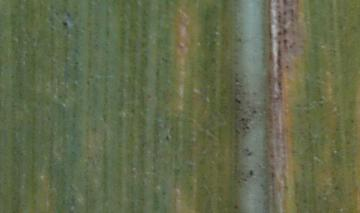tarspot: (59, 19, 70, 28), (289, 7, 296, 19), (233, 97, 242, 105), (247, 168, 255, 176), (246, 150, 254, 157), (276, 30, 283, 37), (232, 204, 240, 210), (164, 133, 170, 141), (243, 124, 251, 130), (282, 26, 287, 35), (238, 116, 245, 122), (250, 109, 257, 115), (282, 38, 288, 45), (281, 1, 288, 7), (233, 77, 239, 84), (282, 9, 288, 16), (285, 63, 290, 70)
